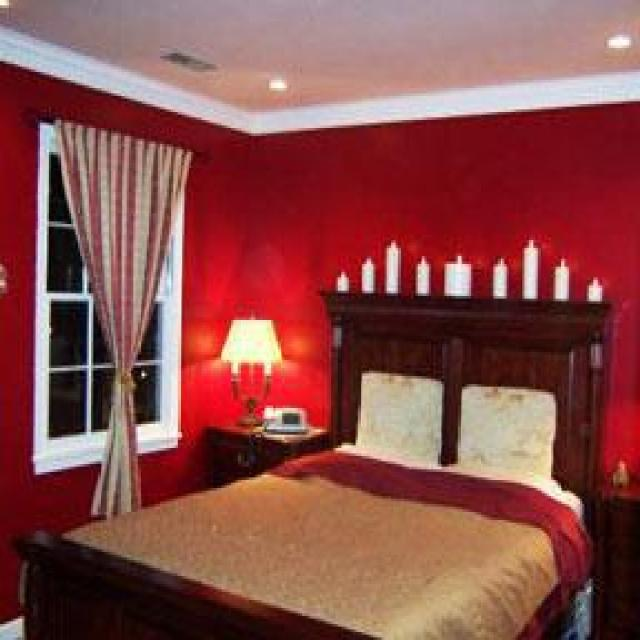other: (222, 304, 288, 378)
